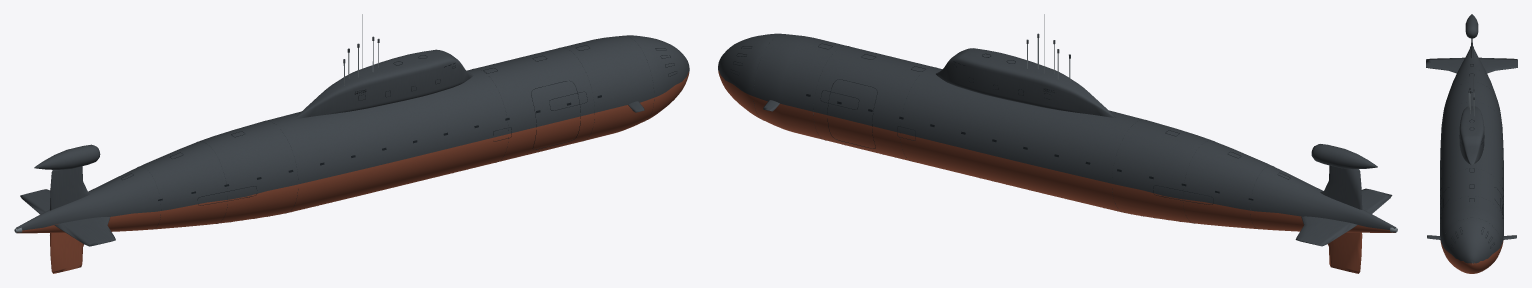
Rendered from RU_SSN_Akula_LOD3.fbx.
The picture shows the model from 3 angles, left to right: view 1: azimuth 30°, elevation 25°; view 2: azimuth 150°, elevation 25°; view 3: azimuth 270°, elevation 25°; orthographic projection. The views are drawn at different scales.
Parts seen in each view (by area): view 1: RU_SSN_Akula_HULL_LOD3; view 2: RU_SSN_Akula_HULL_LOD3; view 3: RU_SSN_Akula_HULL_LOD3.
Boxes of the visible parts, left/top/right/bottom form: RU_SSN_Akula_HULL_LOD3: left=14, top=14, right=689, bottom=273; RU_SSN_Akula_HULL_LOD3: left=718, top=14, right=1397, bottom=273; RU_SSN_Akula_HULL_LOD3: left=1426, top=14, right=1517, bottom=273.
Bounding box in the file's own units: 109 × 19.6 × 28.44.
